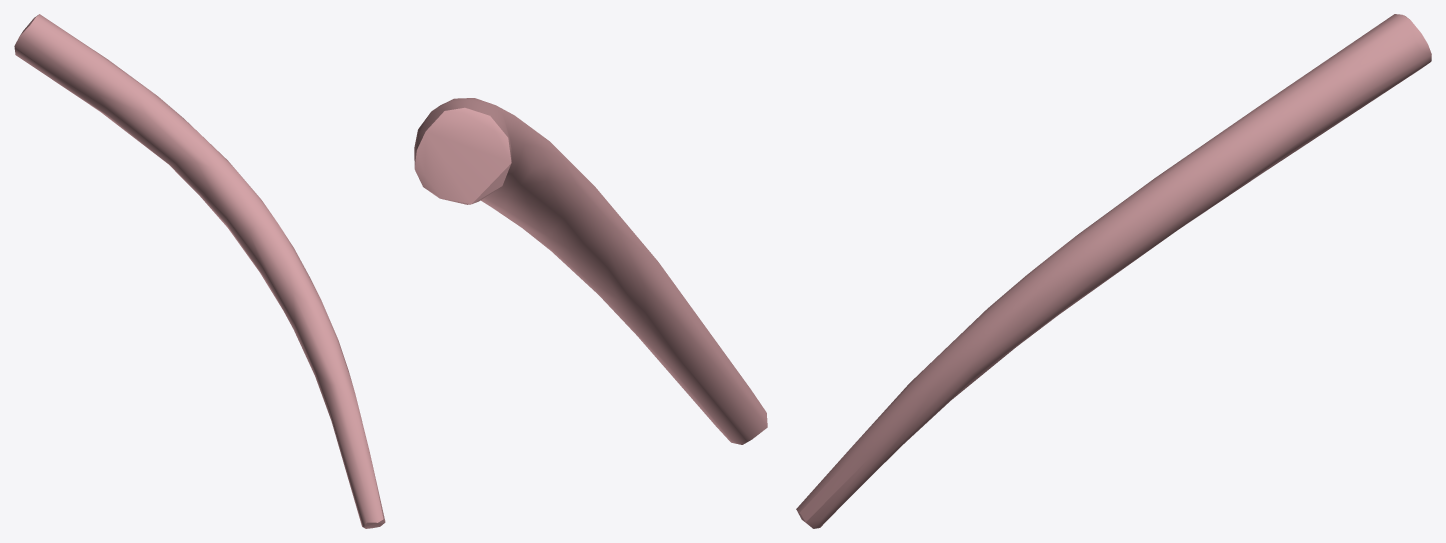
The model's file is fma68231_fj6492.glb.
The picture shows the model from 3 angles, left to right: view 1: azimuth 30°, elevation 25°; view 2: azimuth 150°, elevation 25°; view 3: azimuth 270°, elevation 25°; orthographic projection. The views are drawn at different scales.
Visible parts, largest first — view 1: FMA68231_FJ6492; view 2: FMA68231_FJ6492; view 3: FMA68231_FJ6492.
Boxes of the visible parts, box(x1,y1,x2,y2) form: FMA68231_FJ6492: box(14, 14, 385, 528); FMA68231_FJ6492: box(414, 98, 767, 444); FMA68231_FJ6492: box(796, 14, 1431, 528).
Bounding box in the file's own units: 0.0171 × 0.0405 × 0.0516.
